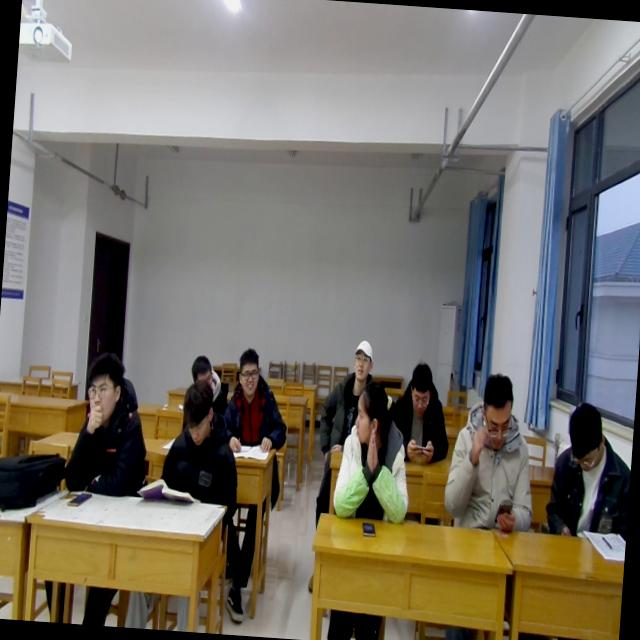down: (560, 398, 610, 473), (477, 367, 520, 450), (177, 376, 218, 454), (404, 356, 438, 418)
lookup: (80, 348, 128, 430), (232, 346, 264, 404), (348, 334, 376, 383)
sit: (442, 373, 542, 528), (62, 353, 156, 499), (328, 383, 416, 527), (538, 401, 634, 531), (158, 374, 245, 514), (225, 340, 294, 461), (318, 332, 376, 452), (398, 356, 452, 459)
